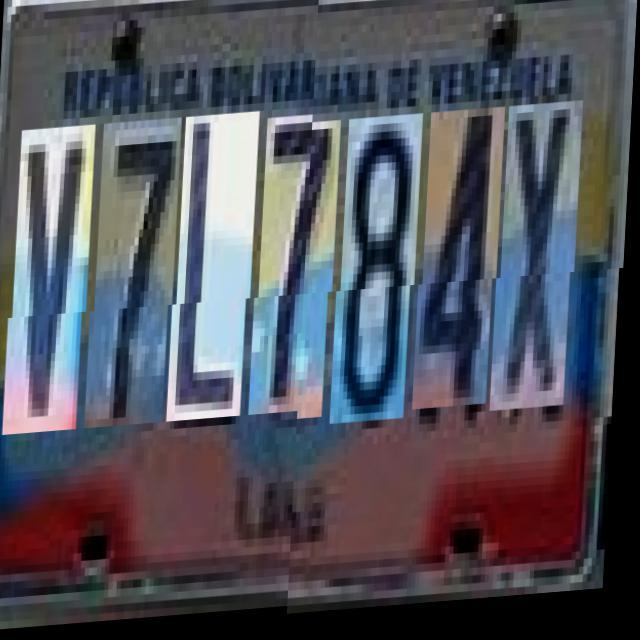4: (421, 116, 507, 417)
7: (92, 128, 182, 438), (257, 126, 343, 427)
8: (339, 121, 425, 430)
L: (174, 124, 260, 432)
V: (10, 134, 96, 443)
X: (499, 110, 585, 420)
